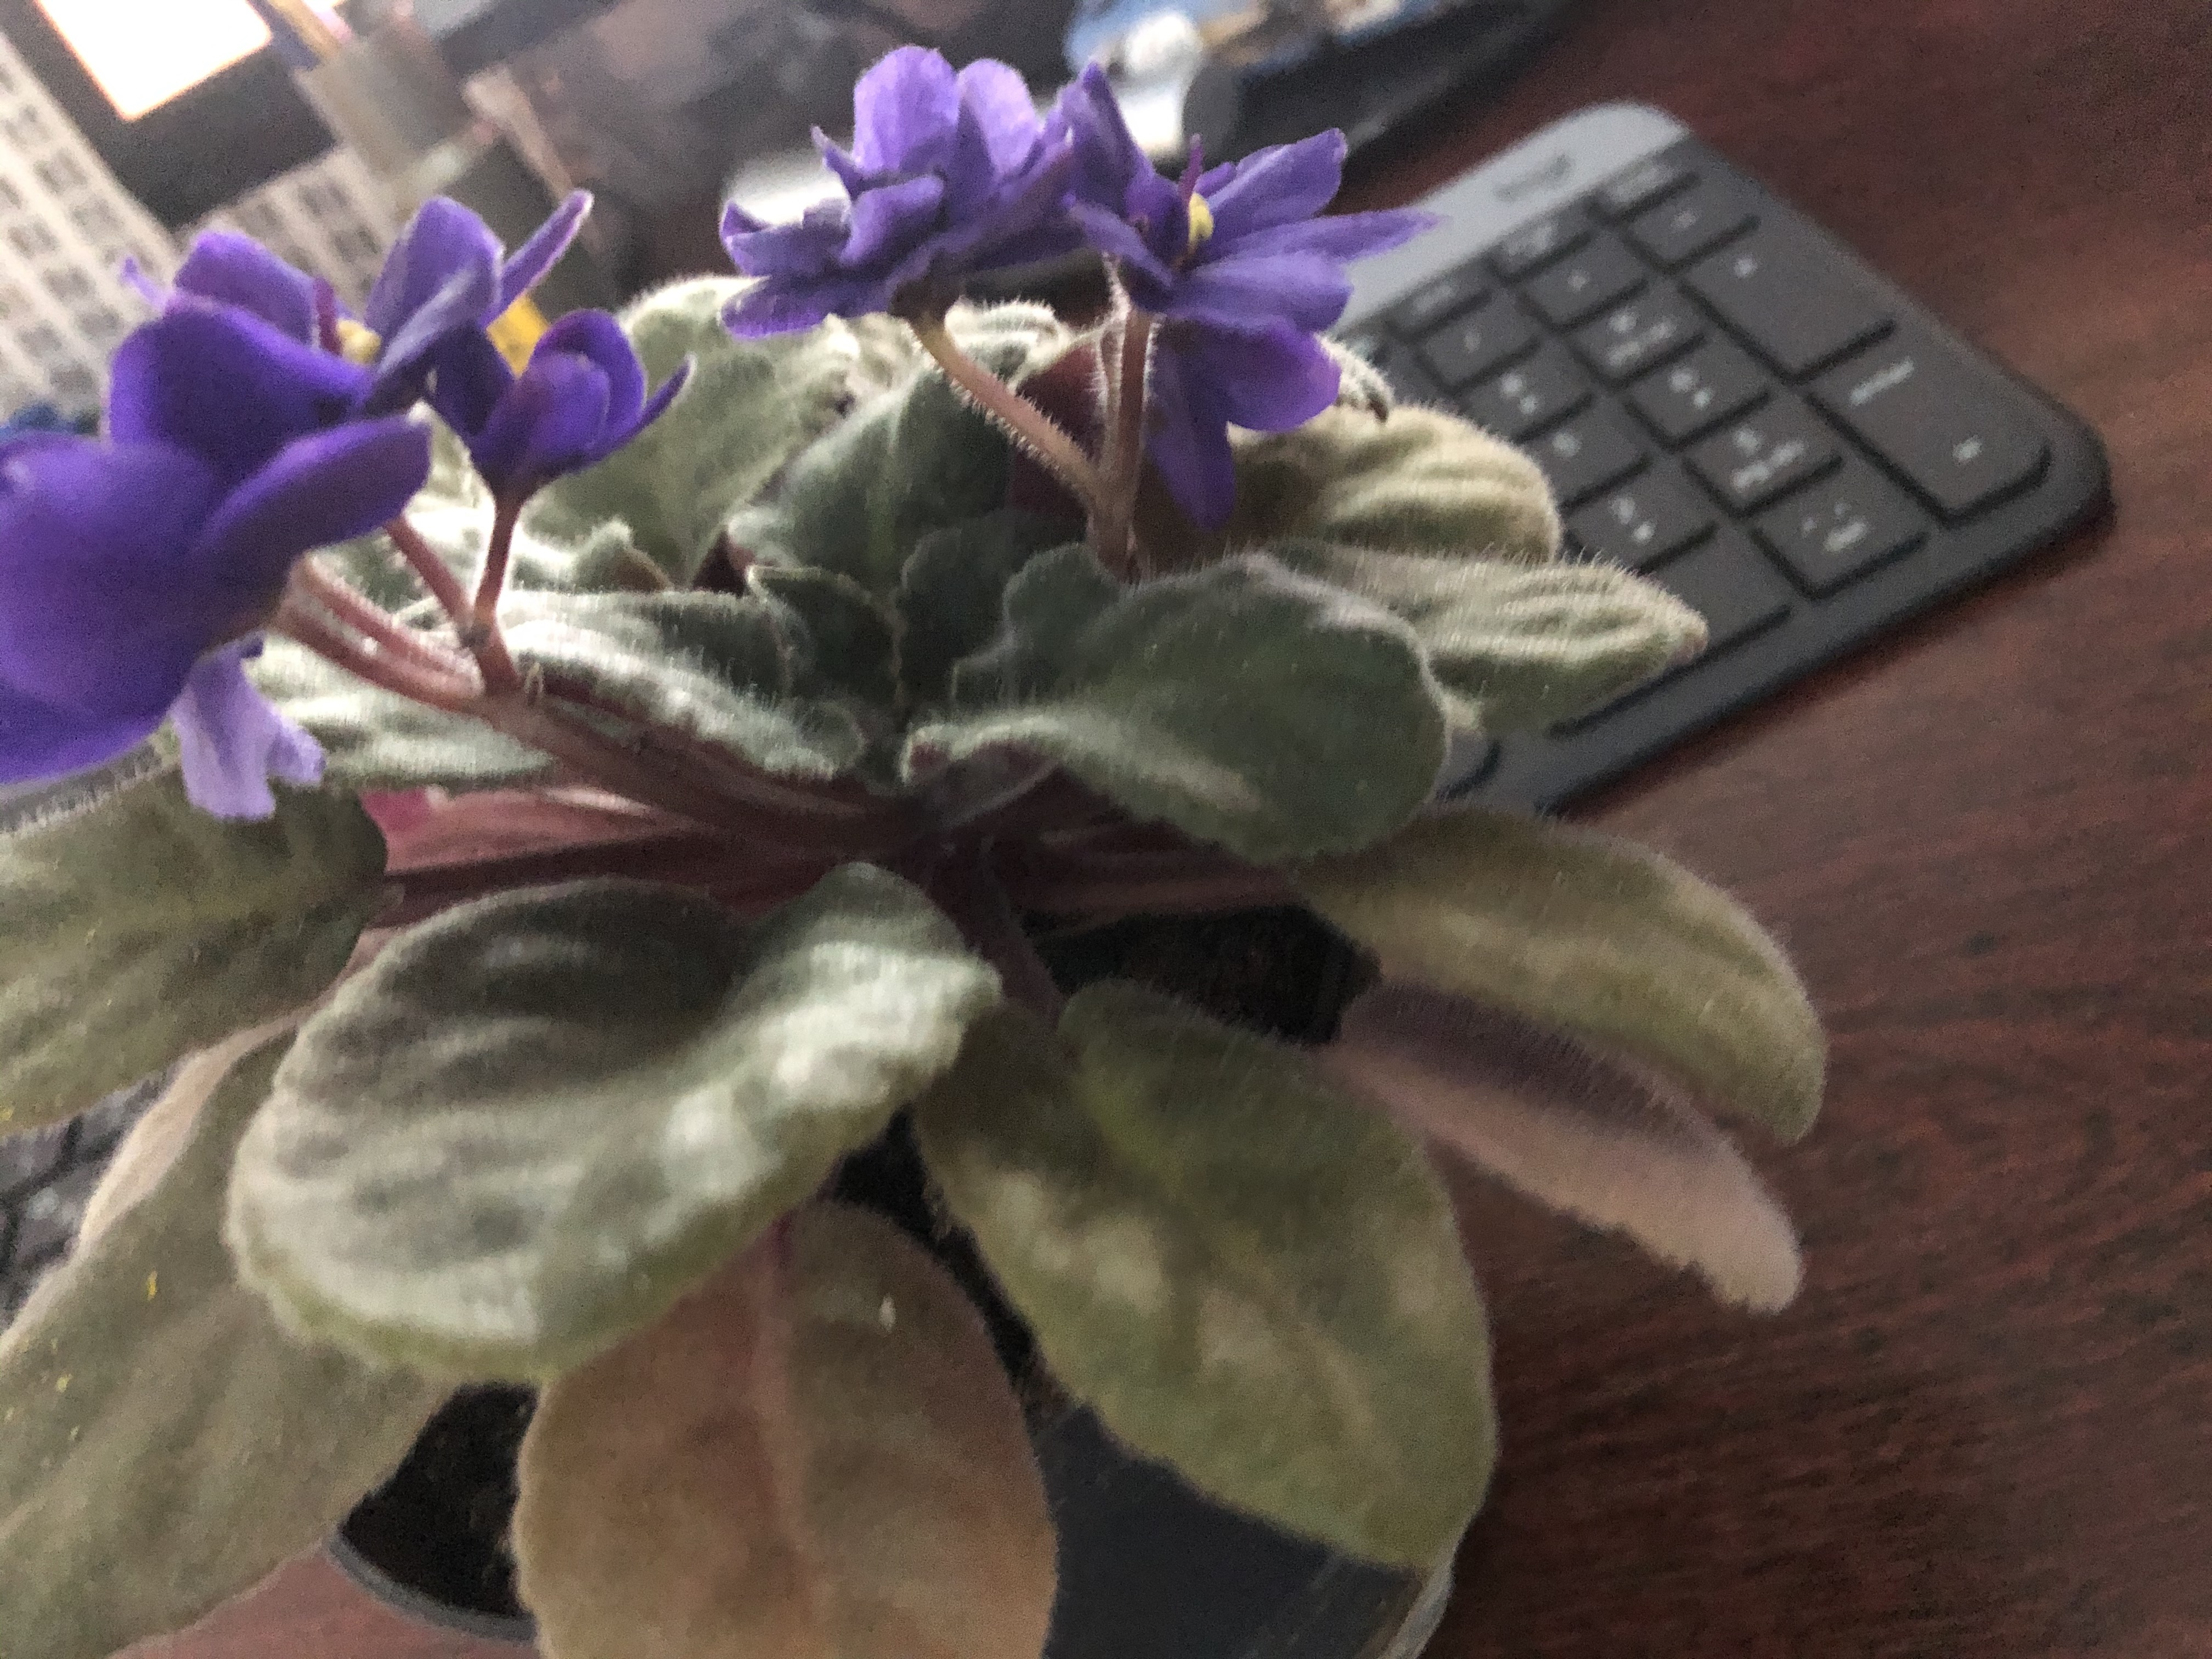ignore: (16, 54, 1888, 1652)
